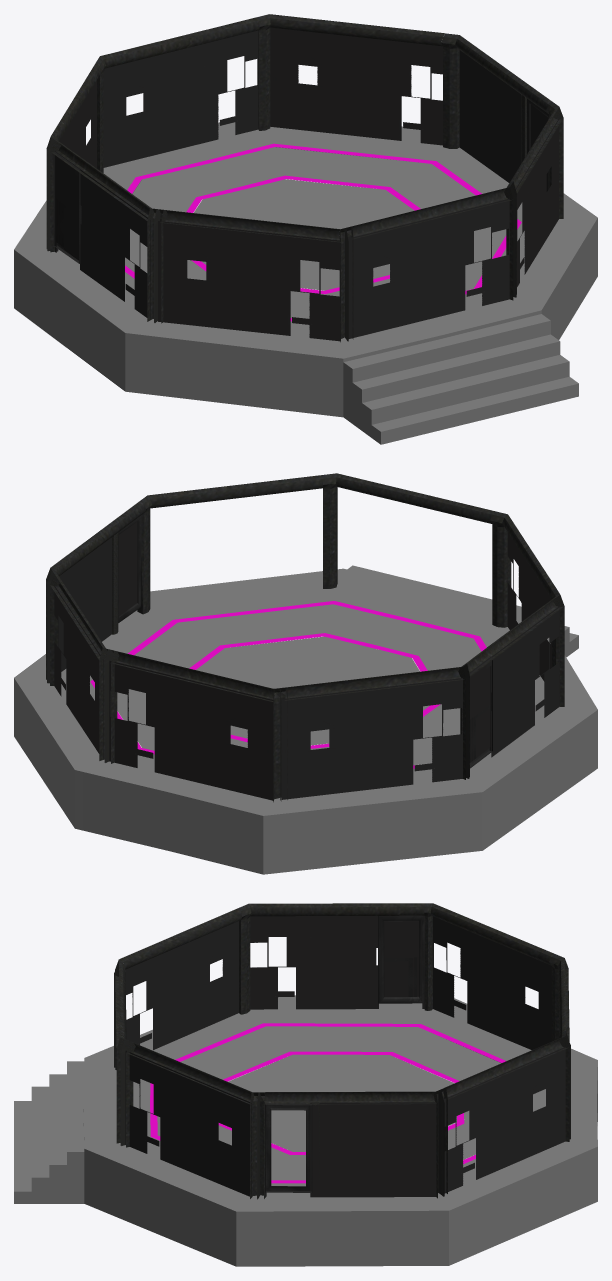
File: FinalRingExport.fbx
3 renders of one model, top to bottom at view 1: azimuth 30°, elevation 25°; view 2: azimuth 150°, elevation 25°; view 3: azimuth 270°, elevation 25°, orthographic. The views are drawn at different scales.
Visible parts, largest first — view 1: Ring, Jali4, Jalli, Jali 5, Jali1, JAli7, Jali8, polySurface461, polySurface465, polySurface462, JAli6, polySurface436 (+5 smaller); view 2: Ring, JAli3, Jali1, JAli7, Jali8, polySurface464, Jalli, polySurface436, polySurface466, polySurface438, polySurface463, polySurface462 (+3 smaller); view 3: Ring, JAli7, Jali8, JAli6, Jalli, JAli3, Jali4, polySurface466, polySurface462, polySurface438, polySurface465, polySurface463 (+3 smaller).
Boxes of the visible parts, x1=… form: Ring: x1=14, y1=122, x2=597, y2=444; Jali4: x1=158, y1=221, x2=340, y2=341; Jalli: x1=270, y1=27, x2=442, y2=145; Jali 5: x1=348, y1=198, x2=509, y2=338; Jali1: x1=103, y1=30, x2=258, y2=167; JAli7: x1=56, y1=157, x2=150, y2=319; Jali8: x1=459, y1=50, x2=547, y2=191; polySurface461: x1=155, y1=209, x2=347, y2=342; polySurface465: x1=264, y1=14, x2=452, y2=148; polySurface462: x1=47, y1=138, x2=160, y2=322; JAli6: x1=515, y1=119, x2=558, y2=286; polySurface436: x1=345, y1=184, x2=516, y2=341; Ring: x1=14, y1=565, x2=597, y2=874; JAli3: x1=281, y1=678, x2=462, y2=799; Jali1: x1=109, y1=660, x2=273, y2=800; JAli7: x1=470, y1=606, x2=559, y2=762; Jali8: x1=58, y1=522, x2=137, y2=671; polySurface464: x1=105, y1=649, x2=280, y2=802; Jalli: x1=54, y1=586, x2=103, y2=759; polySurface436: x1=329, y1=473, x2=501, y2=626; polySurface466: x1=46, y1=498, x2=148, y2=682; polySurface438: x1=144, y1=474, x2=330, y2=611; polySurface463: x1=280, y1=665, x2=468, y2=801; polySurface462: x1=463, y1=592, x2=564, y2=778; Ring: x1=14, y1=995, x2=597, y2=1266; JAli7: x1=250, y1=916, x2=418, y2=1009; Jali8: x1=310, y1=1102, x2=436, y2=1197; JAli6: x1=125, y1=1050, x2=251, y2=1197; Jalli: x1=443, y1=1047, x2=565, y2=1193; JAli3: x1=433, y1=916, x2=551, y2=1049; Jali4: x1=125, y1=921, x2=238, y2=1049; polySurface466: x1=258, y1=1090, x2=443, y2=1198; polySurface462: x1=244, y1=903, x2=429, y2=1012; polySurface438: x1=121, y1=1039, x2=260, y2=1199; polySurface465: x1=438, y1=1033, x2=570, y2=1196; polySurface463: x1=427, y1=903, x2=559, y2=1041.
Bounding box in the file's own units: 7.25 × 2.51 × 8.26.
